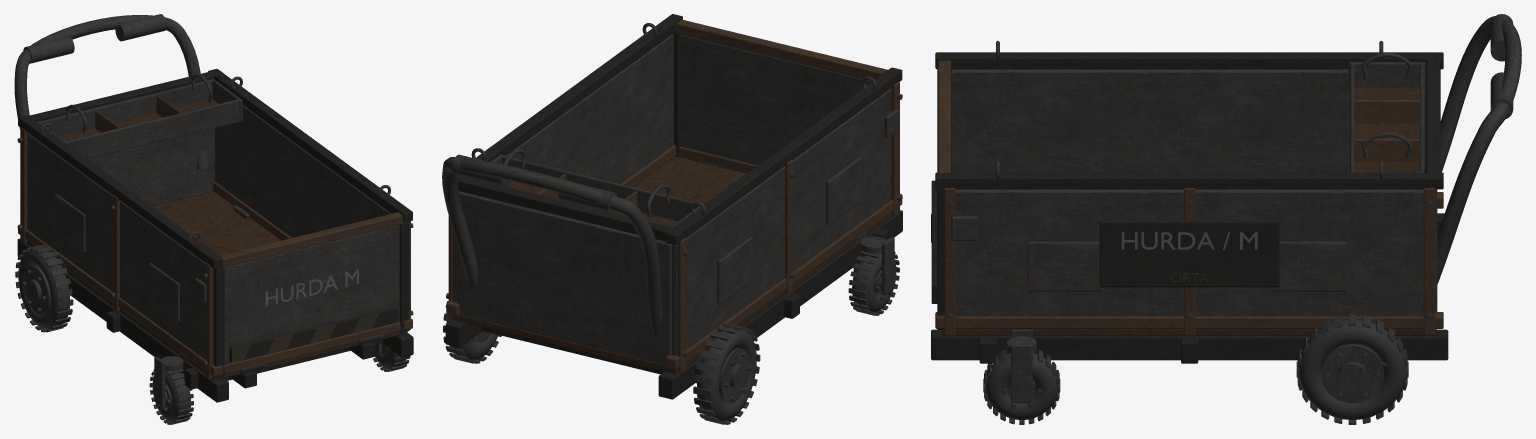
Rendered from hurda-cart.glb.
3 views of the same model, side by side, from view 1: azimuth 30°, elevation 25°; view 2: azimuth 150°, elevation 25°; view 3: azimuth 270°, elevation 25° (orthographic). The views are drawn at different scales.
Visible parts, largest first — view 1: HurdaCart_M_ROOT.001_Visual, M_FrontGate_Hinge.001_Visual, M_Chassis.001_Visual, M_RemovableTray.001_Visual, M_RearWheel_L.001_Visual, M_FrontWheel_L.001_Visual, M_Caster_L.001_Visual, M_FrontWheel_R.001_Visual; view 2: HurdaCart_M_ROOT.001_Visual, M_FrontGate_Hinge.001_Visual, M_Chassis.001_Visual, M_RearWheel_L.001_Visual, M_RemovableTray.001_Visual, M_FrontWheel_L.001_Visual, M_RearWheel_R.001_Visual, M_Caster_L.001_Visual; view 3: HurdaCart_M_ROOT.001_Visual, M_Chassis.001_Visual, M_RearWheel_R.001_Visual, M_RemovableTray.001_Visual, M_FrontWheel_R.001_Visual, M_FrontGate_Hinge.001_Visual, M_Caster_R.001_Visual, M_GateLatch.003_Visual.
Boxes of the visible parts, <box> form: HurdaCart_M_ROOT.001_Visual: <box>14,14,413,378</box>; M_FrontGate_Hinge.001_Visual: <box>213,212,409,377</box>; M_Chassis.001_Visual: <box>17,191,413,402</box>; M_RemovableTray.001_Visual: <box>37,74,242,158</box>; M_RearWheel_L.001_Visual: <box>15,244,73,332</box>; M_FrontWheel_L.001_Visual: <box>149,368,193,424</box>; M_Caster_L.001_Visual: <box>154,351,187,406</box>; M_FrontWheel_R.001_Visual: <box>373,344,410,371</box>; HurdaCart_M_ROOT.001_Visual: <box>442,14,902,372</box>; M_FrontGate_Hinge.001_Visual: <box>673,19,887,173</box>; M_Chassis.001_Visual: <box>445,156,902,399</box>; M_RearWheel_L.001_Visual: <box>693,323,760,424</box>; M_RemovableTray.001_Visual: <box>491,149,704,227</box>; M_FrontWheel_L.001_Visual: <box>848,250,899,315</box>; M_RearWheel_R.001_Visual: <box>443,301,501,363</box>; M_Caster_L.001_Visual: <box>853,231,894,295</box>; HurdaCart_M_ROOT.001_Visual: <box>935,14,1521,335</box>; M_Chassis.001_Visual: <box>931,213,1448,363</box>; M_RearWheel_R.001_Visual: <box>1296,314,1408,424</box>; M_RemovableTray.001_Visual: <box>1348,52,1425,172</box>; M_FrontWheel_R.001_Visual: <box>983,349,1060,424</box>; M_FrontGate_Hinge.001_Visual: <box>931,60,951,329</box>; M_Caster_R.001_Visual: <box>1006,329,1036,402</box>; M_GateLatch.003_Visual: <box>951,216,977,240</box>.
Bounding box in the file's own units: 1.26 × 1.15 × 2.03.
Materials: 9 (9 with a texture image).
